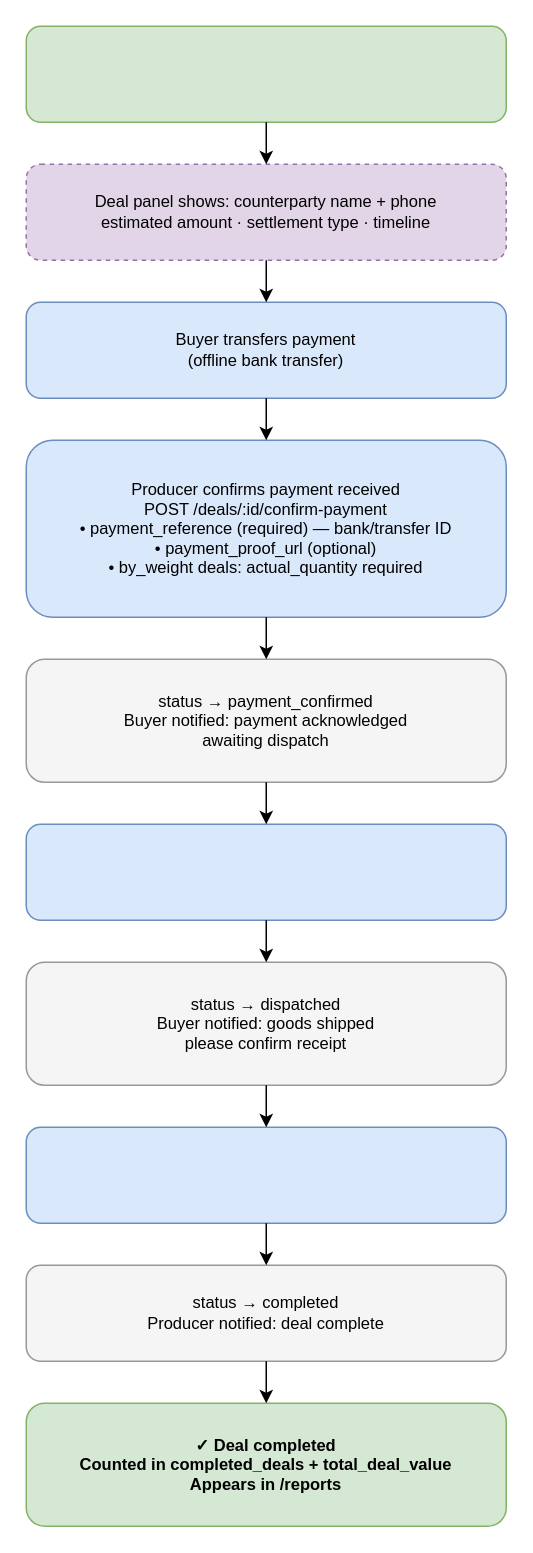
The diagram is 533 pixels wide and 1553 high, and some of its shapes have lost their labels. Each missing label, with the centre of its shape:
"Buyer receives goods POST /deals/:id/confirm-receipt" goes at (265,1174).
"Deal created · status: active Both parties can view deal panel" goes at (265,73).
"Producer ships goods POST /deals/:id/confirm-dispatch" goes at (265,871).
